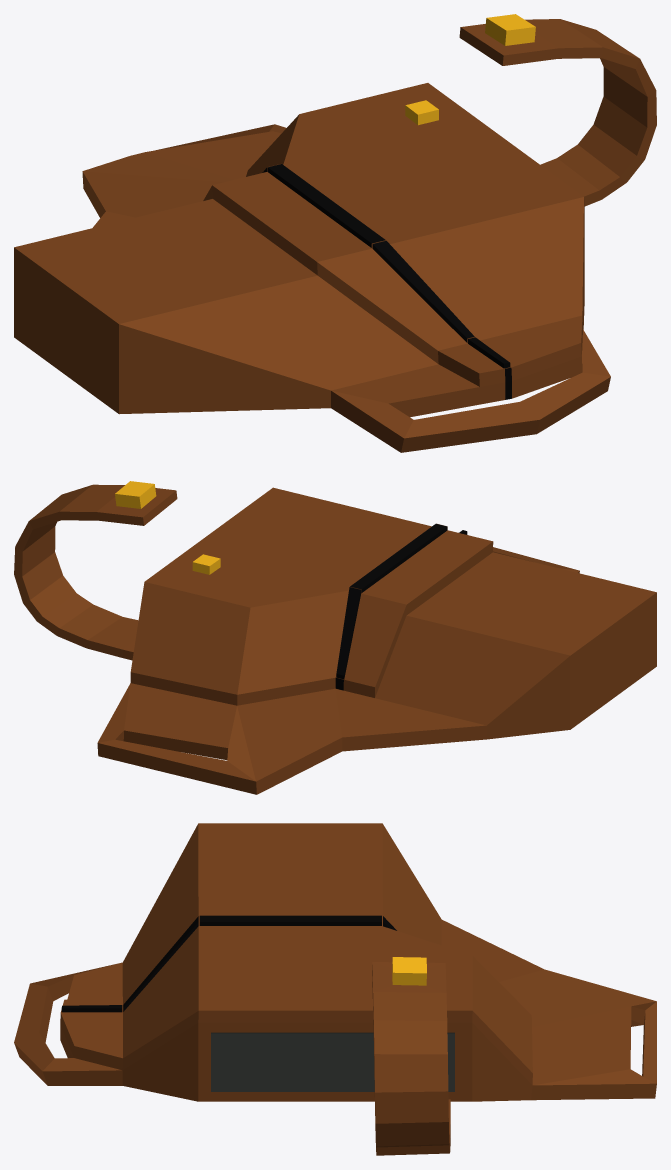
The model's file is GunHolster.obj.
3 views of the same model, one above another, from view 1: azimuth 30°, elevation 25°; view 2: azimuth 150°, elevation 25°; view 3: azimuth 270°, elevation 25° (orthographic). The views are drawn at different scales.
Parts seen in each view (by area): view 1: GunHolster_Cube.014; view 2: GunHolster_Cube.014; view 3: GunHolster_Cube.014.
Boxes of the visible parts, left/top/right/bottom form: GunHolster_Cube.014: left=14, top=14, right=656, bottom=452; GunHolster_Cube.014: left=14, top=481, right=656, bottom=794; GunHolster_Cube.014: left=14, top=823, right=656, bottom=1155.
Size of the model in its own units: 0.0968 by 0.0294 by 0.0961.
1 material, 1 textured.
